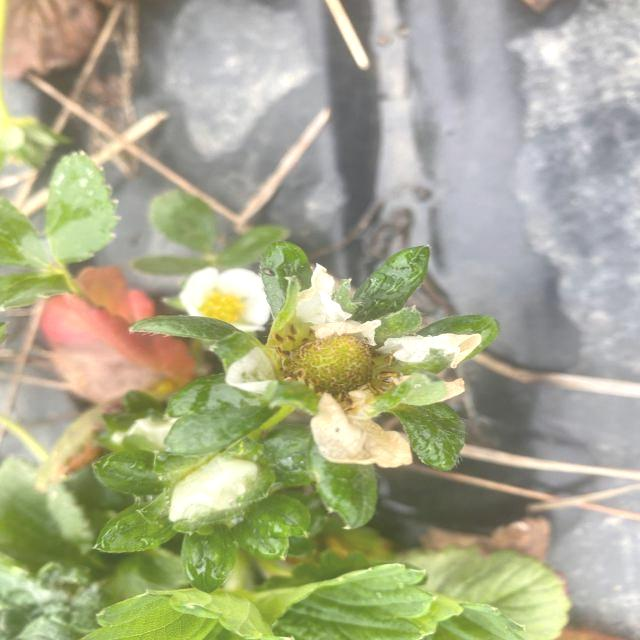flower: (177, 266, 277, 330)
